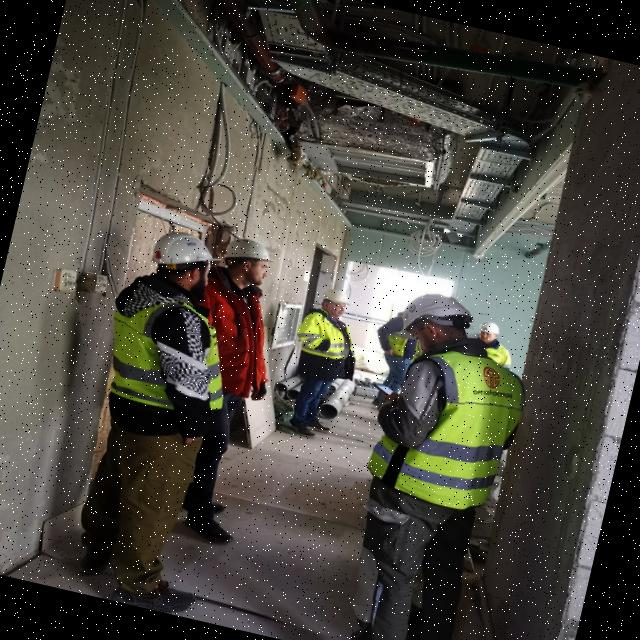Helmet: (395, 287, 478, 363), (145, 227, 225, 301), (219, 235, 278, 293), (318, 288, 354, 322), (475, 319, 504, 347)
